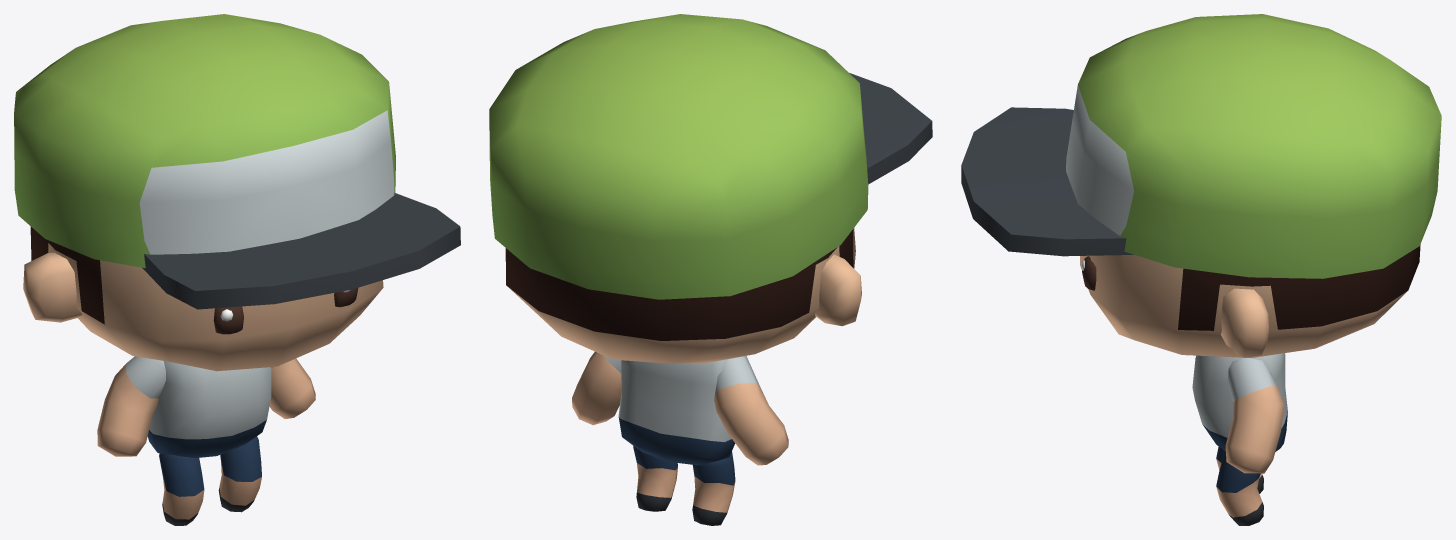
Rendered from idle_0044.obj.
3 renders of one model, left to right at view 1: azimuth 30°, elevation 25°; view 2: azimuth 150°, elevation 25°; view 3: azimuth 270°, elevation 25°, orthographic.
Parts seen in each view (by area): view 1: Object_41, Object_42, Object_36, Object_44, Object_38; view 2: Object_41, Object_36, Object_44, Object_42; view 3: Object_41, Object_36, Object_42, Object_44.
Boxes of the visible parts, x1,y1,x2,y2 form: Object_41: [14, 14, 395, 268]; Object_42: [139, 110, 460, 309]; Object_36: [23, 226, 383, 371]; Object_44: [97, 356, 315, 525]; Object_38: [213, 288, 358, 334]; Object_41: [489, 14, 868, 299]; Object_36: [505, 228, 861, 363]; Object_44: [572, 351, 788, 525]; Object_42: [849, 73, 932, 184]; Object_41: [1078, 14, 1441, 278]; Object_36: [1080, 244, 1420, 357]; Object_42: [961, 85, 1133, 256]; Object_44: [1192, 353, 1287, 525].
Size of the model in its own units: 0.9691 by 1.21 by 1.14.
